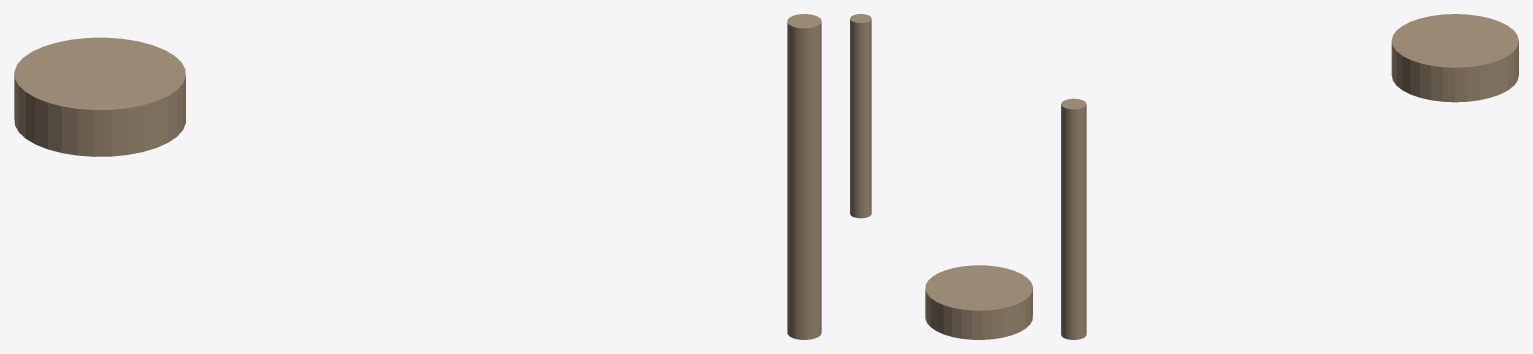
Rendered from ancient_temple_brazier.glb.
The picture shows the model from 3 angles, left to right: view 1: azimuth 30°, elevation 25°; view 2: azimuth 150°, elevation 25°; view 3: azimuth 270°, elevation 25°; orthographic projection. The views are drawn at different scales.
Visible parts, largest first — view 1: ancient_temple_brazier, brazier_pole; view 2: ancient_temple_brazier, brazier_pole; view 3: ancient_temple_brazier, brazier_pole.
Part boxes in pixels (x1,y1,x2,y2): ancient_temple_brazier: [14, 37, 185, 156]; brazier_pole: [787, 14, 821, 339]; ancient_temple_brazier: [925, 265, 1032, 339]; brazier_pole: [850, 14, 871, 218]; ancient_temple_brazier: [1391, 14, 1518, 102]; brazier_pole: [1061, 98, 1086, 339].
Size of the model in its own units: 3.6 by 2 by 3.6.
